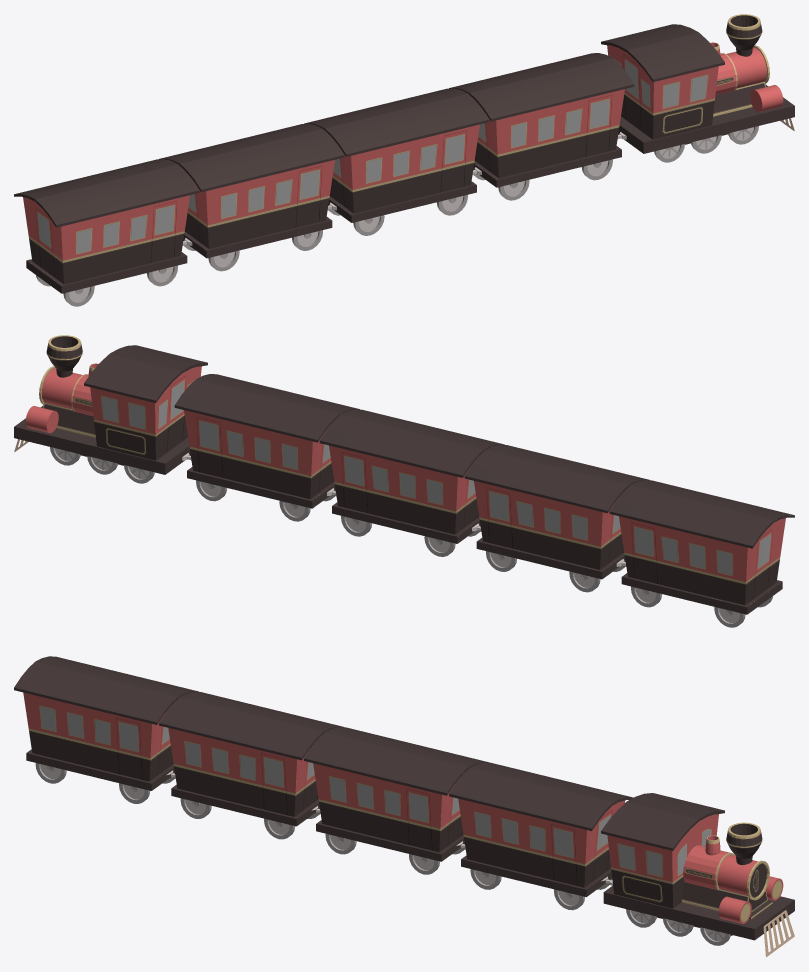
3 views of the same model, one above another, from view 1: azimuth 30°, elevation 25°; view 2: azimuth 150°, elevation 25°; view 3: azimuth 330°, elevation 25° (orthographic).
Parts seen in each view (by area): view 1: carriage3, locomotive, carriage2, carriage, carriage1; view 2: carriage3, locomotive, carriage2, carriage, carriage1; view 3: locomotive, carriage, carriage1, carriage3, carriage2.
Part boxes in pixels (box(x1,y1,x2,y2)): carriage3: box(14, 159, 199, 306); locomotive: box(601, 14, 794, 162); carriage2: box(159, 123, 344, 271); carriage: box(449, 53, 634, 200); carriage1: box(304, 88, 489, 235); carriage3: box(609, 480, 794, 627); locomotive: box(14, 335, 207, 483); carriage2: box(464, 444, 649, 592); carriage: box(174, 374, 359, 521); carriage1: box(319, 409, 504, 556); locomotive: box(601, 793, 794, 957); carriage: box(449, 762, 633, 910); carriage1: box(304, 727, 488, 874); carriage3: box(14, 656, 198, 803); carriage2: box(159, 691, 343, 839).
Size of the model in its own units: 105 by 14.6 by 12.63.
